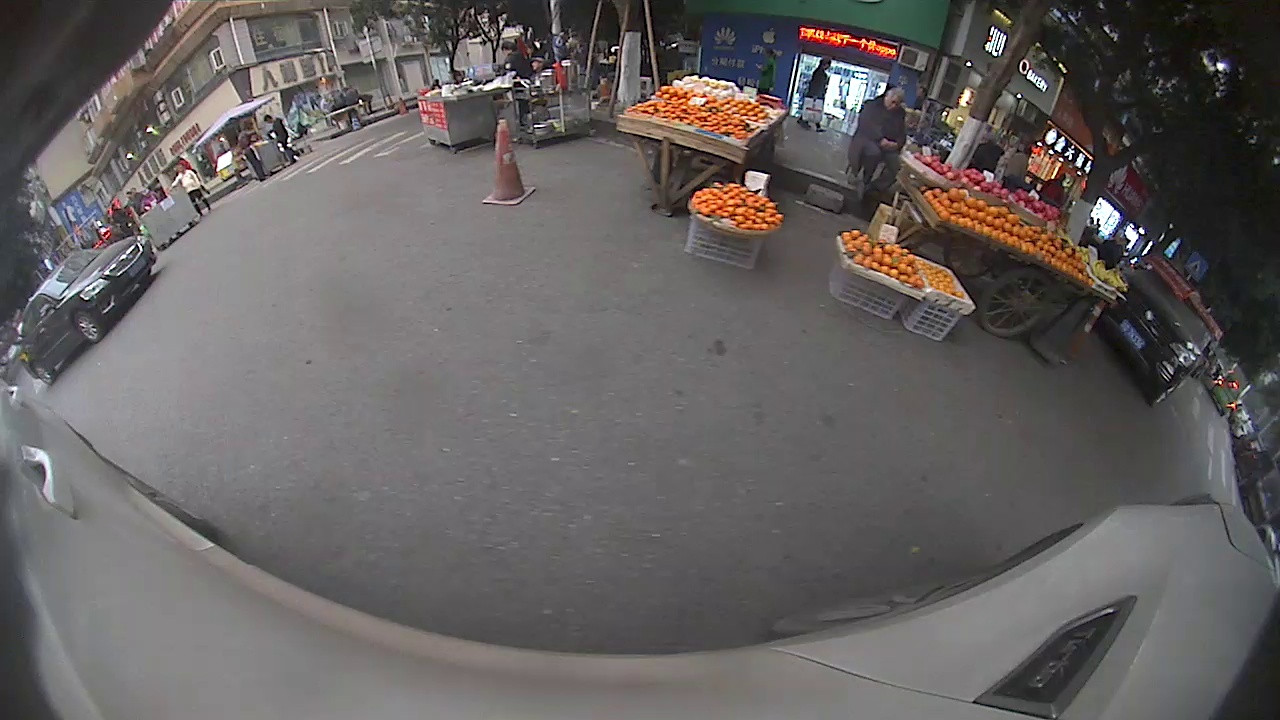car: (19, 235, 157, 385)
front: (71, 310, 105, 344)
person: (863, 81, 905, 192), (174, 165, 209, 213)
rear: (28, 362, 57, 387)
